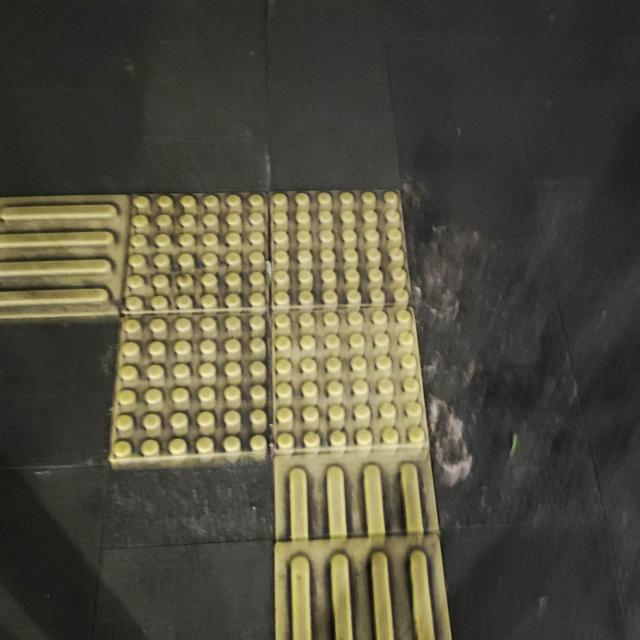kiri: (0, 153, 522, 597)
